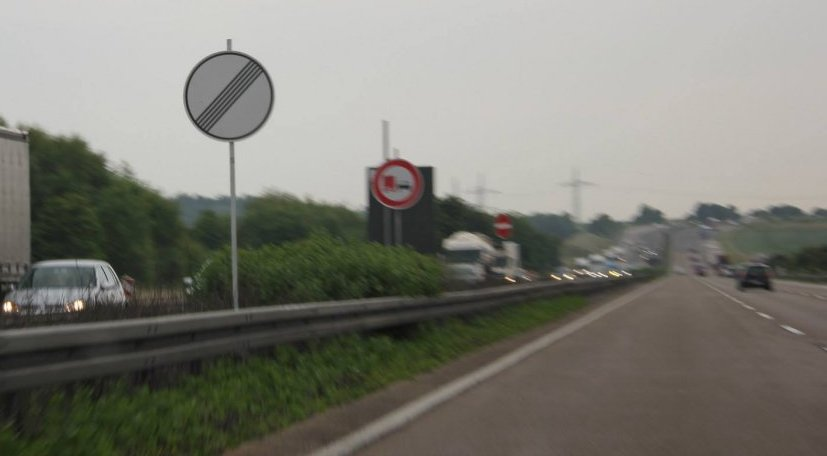aufgehoben: (182, 50, 274, 141)
